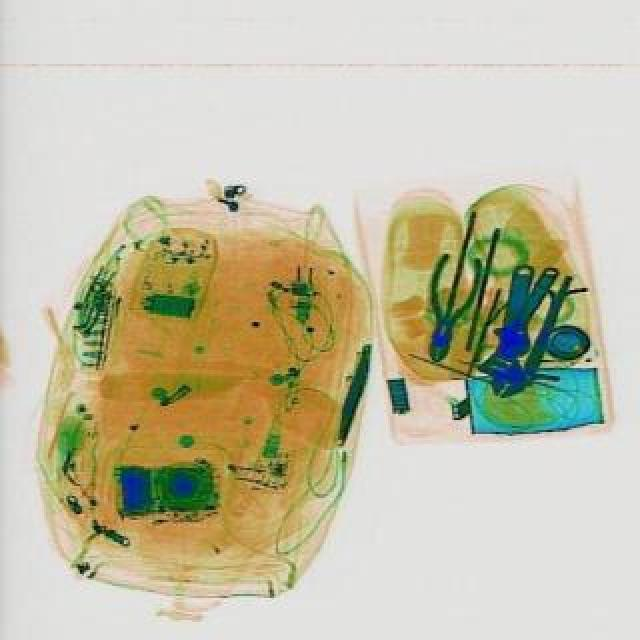scissors: (472, 260, 548, 400), (482, 256, 570, 364)
wrench: (410, 250, 484, 364)
